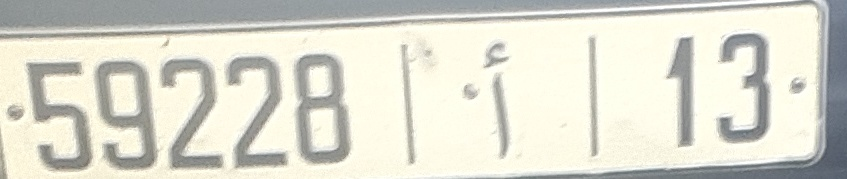1: (664, 30, 699, 149)
2: (224, 55, 292, 168), (162, 55, 226, 167)
3: (715, 30, 772, 144)
5: (25, 56, 93, 171)
6: (291, 51, 356, 164)
9: (93, 57, 160, 171)
a: (481, 39, 515, 159)
